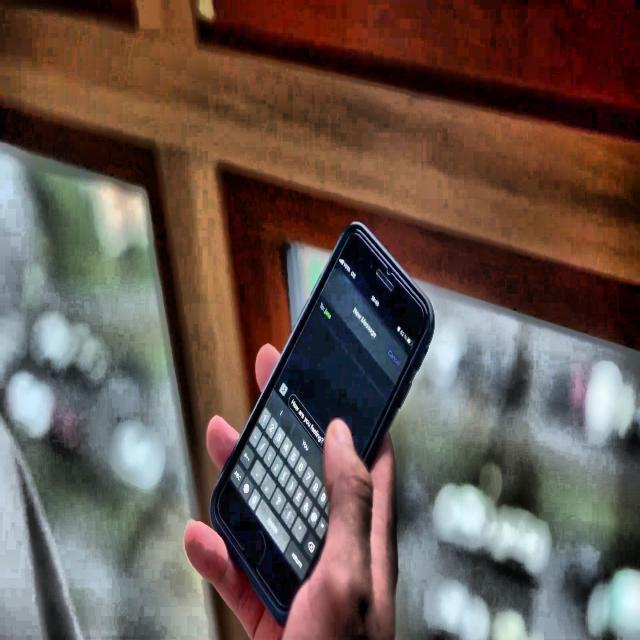Phone: (208, 215, 438, 630)
